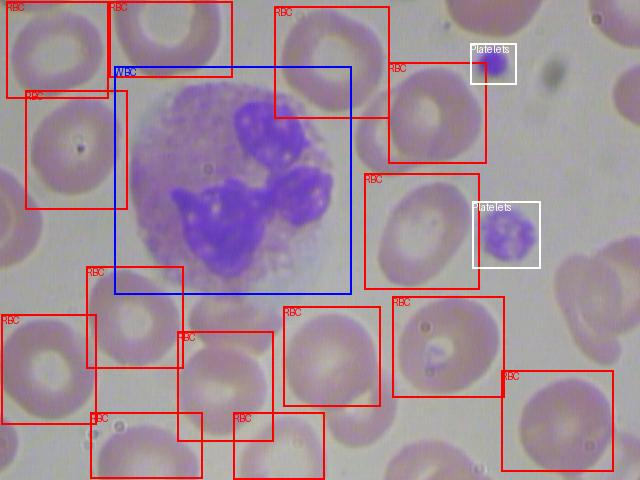Platelets: (472, 201, 540, 268), (470, 43, 516, 84)
RBC: (364, 173, 479, 289), (274, 6, 389, 118), (25, 90, 127, 209), (392, 296, 504, 397), (501, 370, 613, 471), (177, 331, 273, 441), (1, 314, 96, 424), (388, 62, 486, 163), (6, 1, 108, 98), (86, 266, 183, 368), (283, 306, 380, 406), (109, 1, 232, 77), (90, 412, 202, 478), (233, 412, 324, 479)
WBC: (114, 66, 351, 294)
